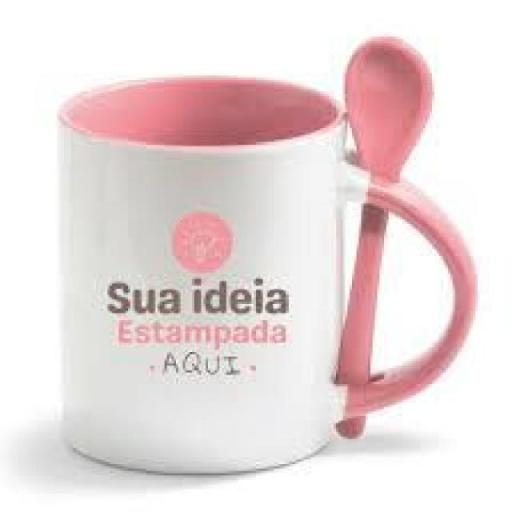glass: (42, 25, 488, 482)
